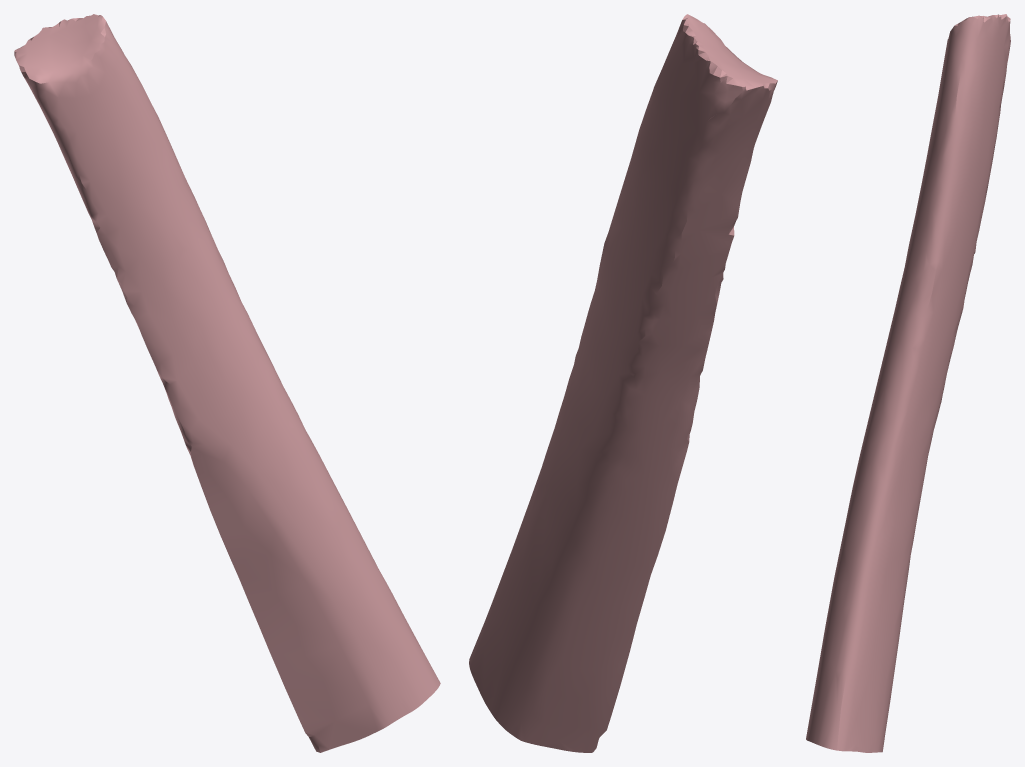
File: fma85449_mm2252m.glb
The picture shows the model from 3 angles, left to right: view 1: azimuth 30°, elevation 25°; view 2: azimuth 150°, elevation 25°; view 3: azimuth 270°, elevation 25°; orthographic projection. The views are drawn at different scales.
Parts seen in each view (by area): view 1: FMA85449_MM2252M; view 2: FMA85449_MM2252M; view 3: FMA85449_MM2252M.
Boxes of the visible parts, box(x1,y1,x2,y2) form: FMA85449_MM2252M: box(14, 14, 440, 752); FMA85449_MM2252M: box(469, 14, 777, 752); FMA85449_MM2252M: box(806, 14, 1010, 752).
Bounding box in the file's own units: 0.0214 × 0.0439 × 0.0123.
